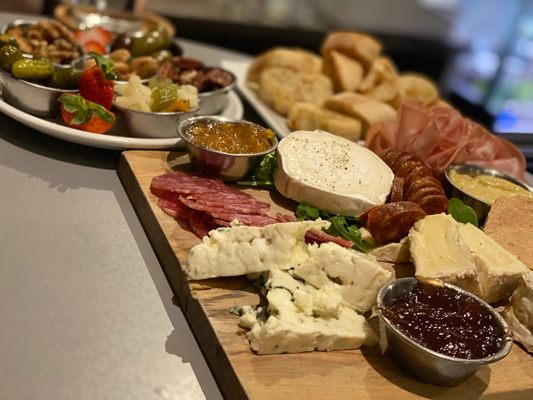soup: (272, 130, 395, 219), (483, 194, 533, 272)
sushi: (53, 50, 243, 142), (377, 276, 513, 387), (111, 60, 241, 139), (178, 116, 280, 182)
